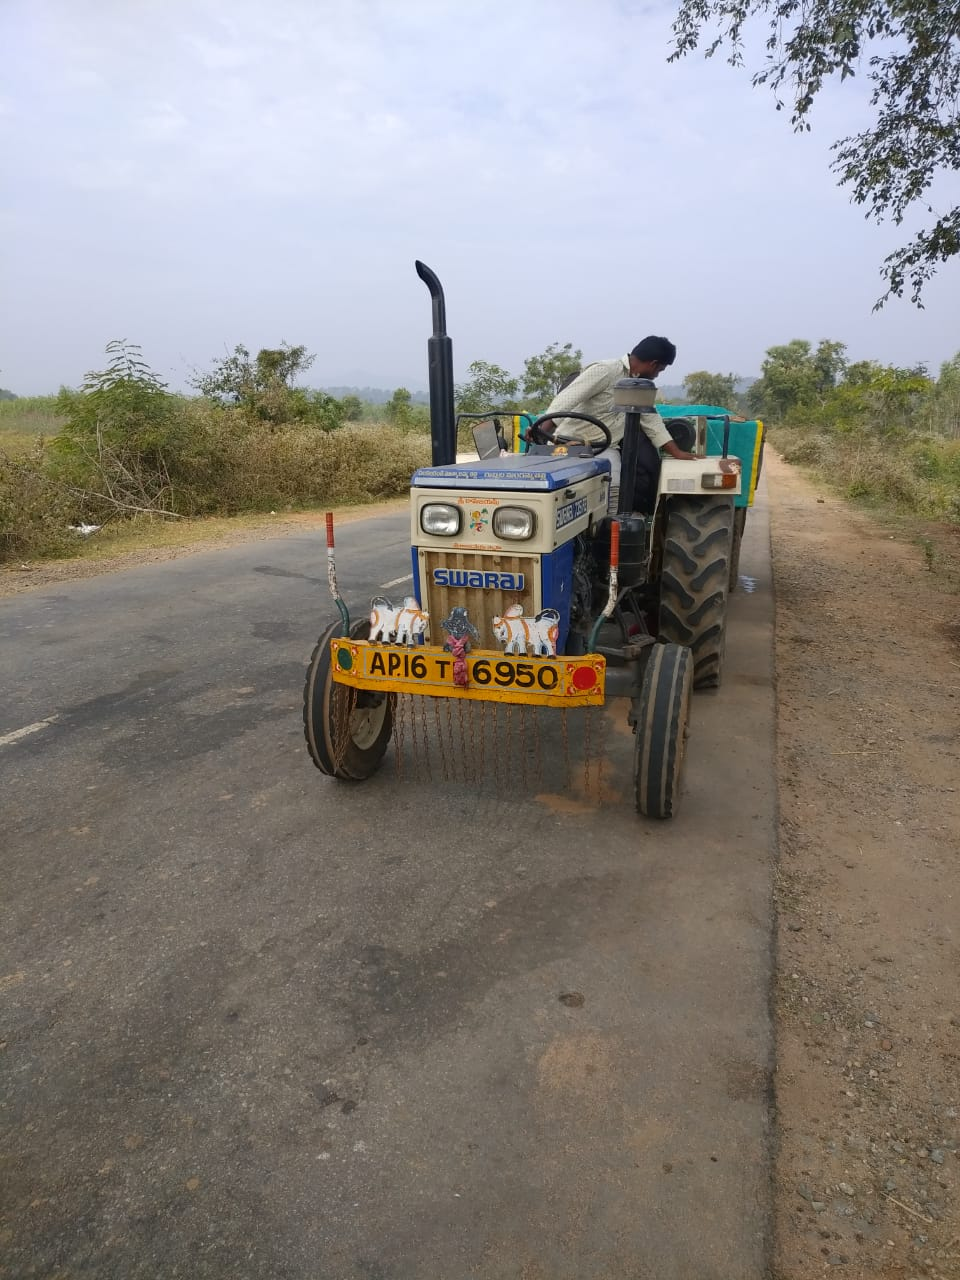license_plate: (359, 641, 575, 704)
